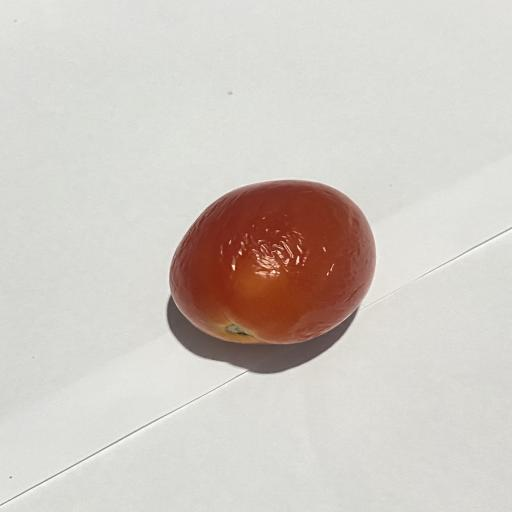spoiled: (170, 180, 376, 344)
